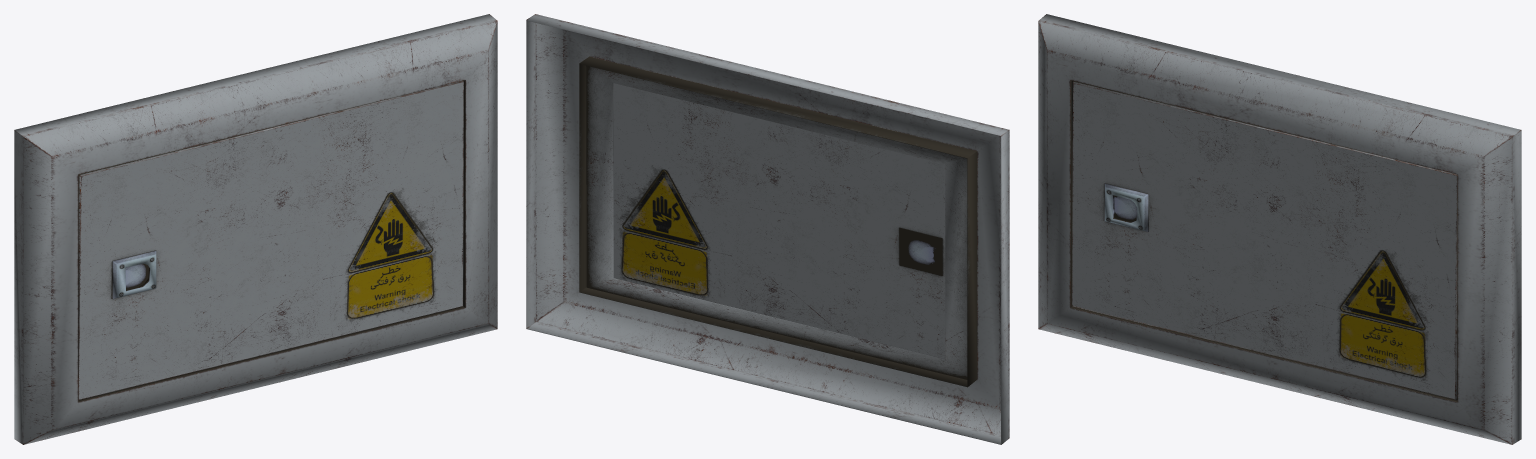
File: Elektrik 3,1.fbx
3 renders of one model, left to right at view 1: azimuth 30°, elevation 25°; view 2: azimuth 150°, elevation 25°; view 3: azimuth 330°, elevation 25°, orthographic.
Parts seen in each view (by area): view 1: 2elektrik_002_LOD0; view 2: 2elektrik_002_LOD0; view 3: 2elektrik_002_LOD0.
Boxes of the visible parts, left/top/right/bottom form: 2elektrik_002_LOD0: left=14, top=14, right=497, bottom=444; 2elektrik_002_LOD0: left=526, top=14, right=1009, bottom=444; 2elektrik_002_LOD0: left=1038, top=14, right=1521, bottom=444.
Size of what is drawn, in the model's own units: 63.15 by 39.25 by 5.23.
